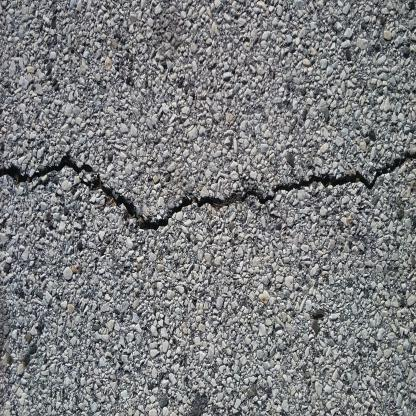Cracks: (0, 144, 415, 240)
